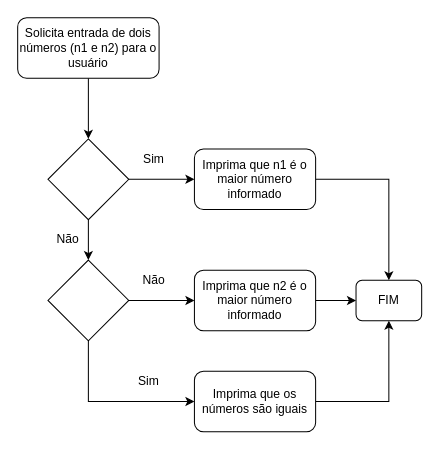
The diagram is 439 pixels wide and 449 high, and some of its shapes have lost their labels. Here are the shapes that lost their labels. From the top down, the centre of each, then its label:
(x=88, y=179): n1 > n2
(x=88, y=300): n1 = n2
